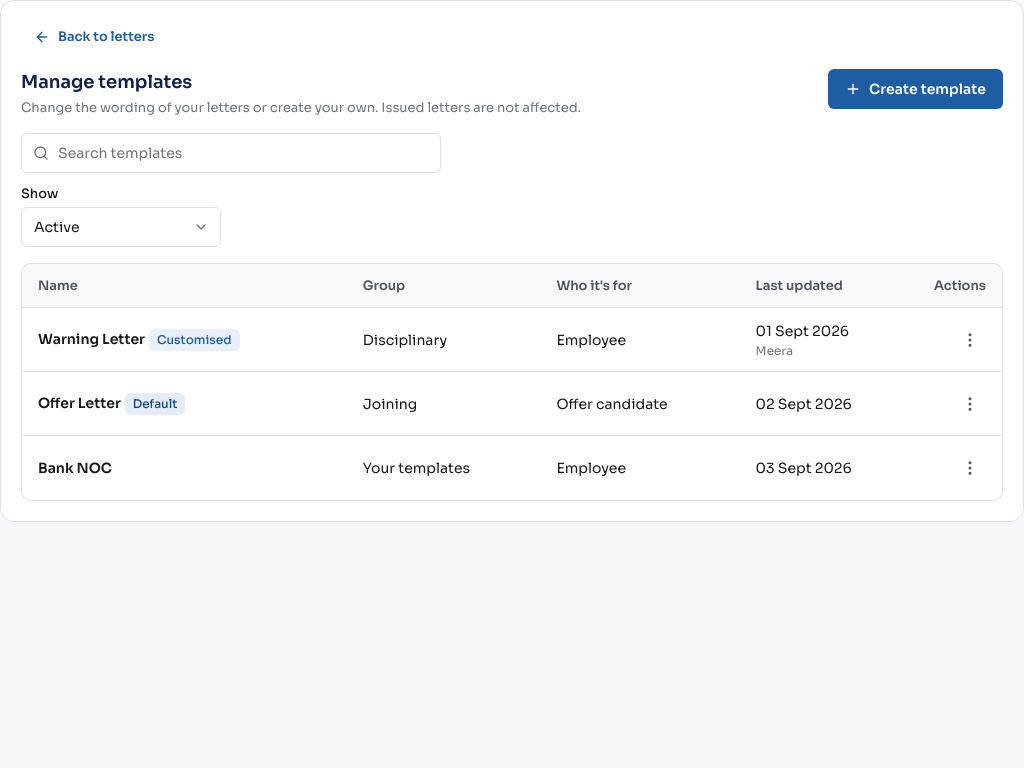
Test: archives after a plain-language confirmation and surfaces API errors
The width and height of the screenshot is (1024, 768).
Check: the text "Bank NOC" is shown, box [38, 458, 112, 478]
Click the button named "Actions for Bank NOC" at (970, 468), box [954, 452, 986, 484]
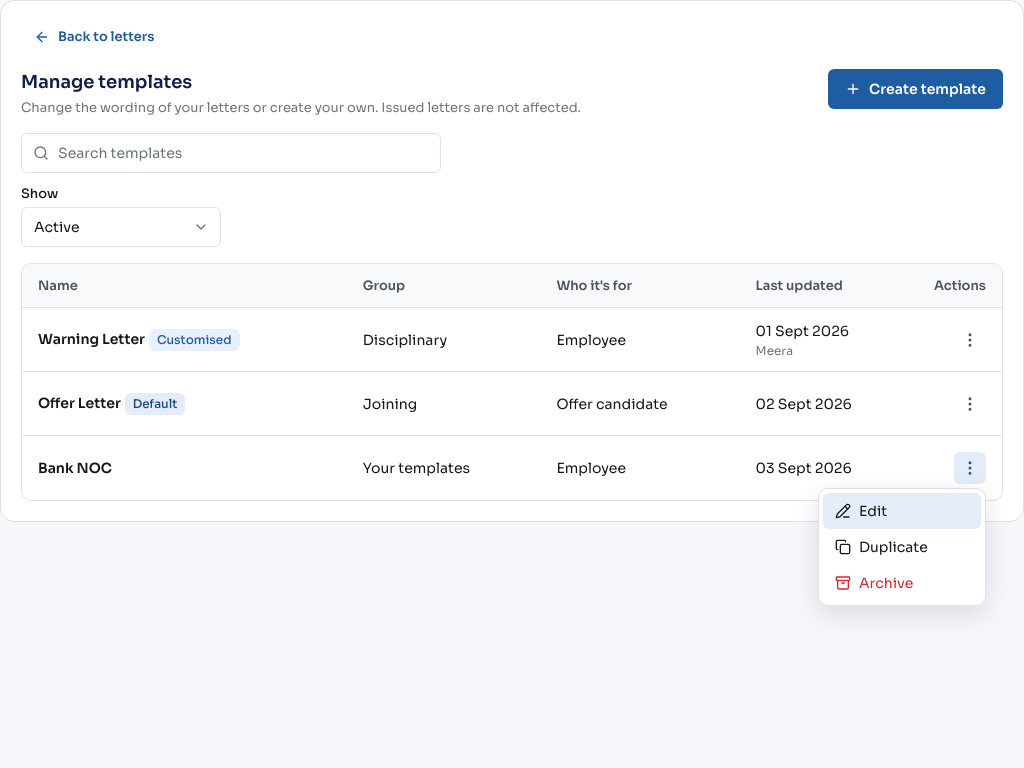
Click the menu item "Archive" at (902, 583), box [823, 565, 981, 601]
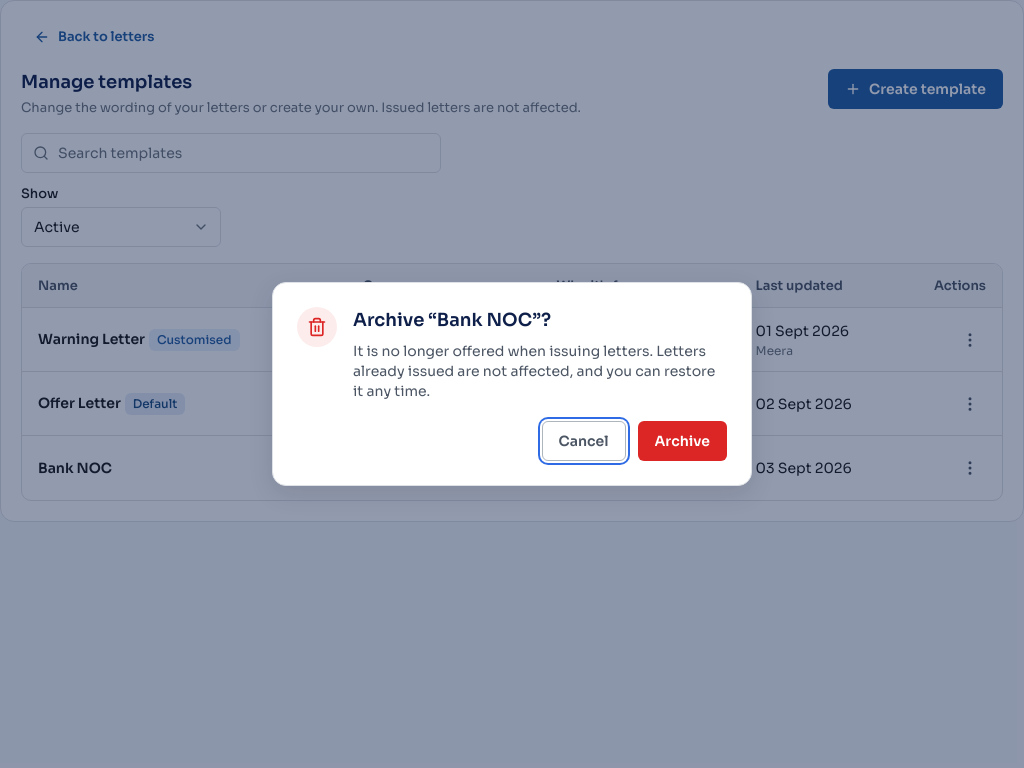
Check: the text "no longer offered when issuing letters" is shown, box [353, 342, 715, 400]
Click the button "Archive" at (682, 441), box [638, 421, 727, 461]
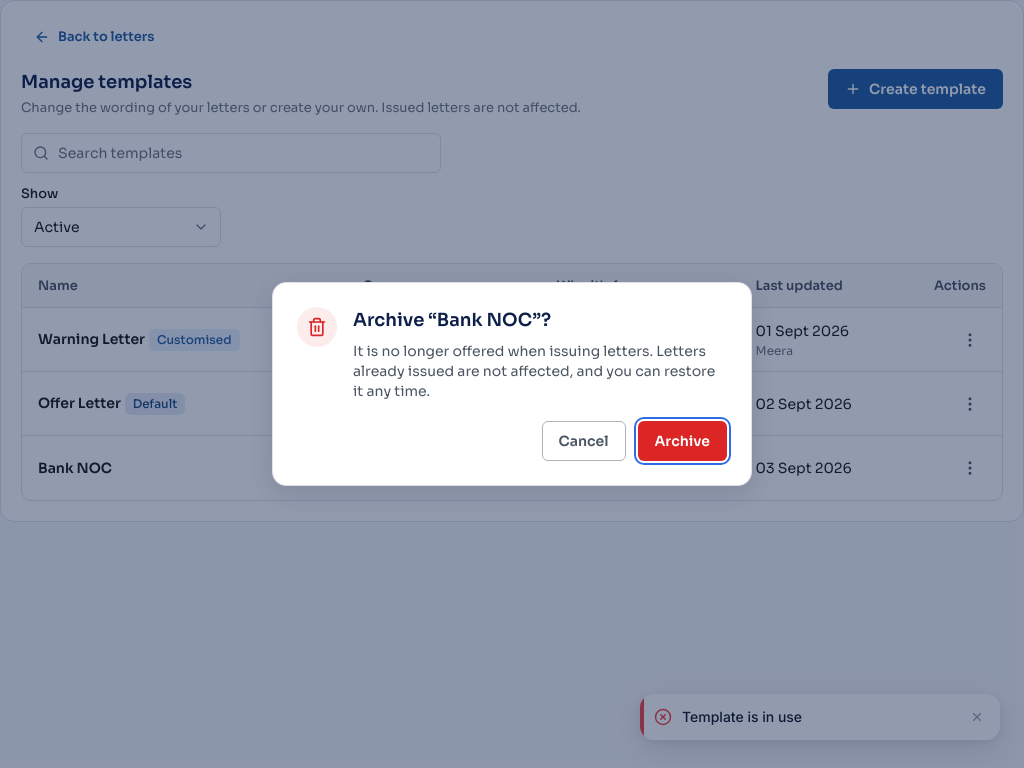
Check: the text "Template is in use" is shown, box [682, 708, 802, 725]
